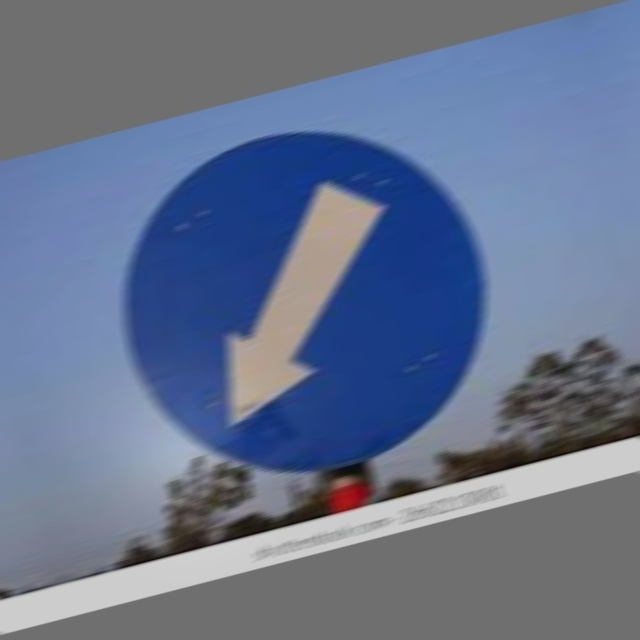Compulsory_Keep_Left: (91, 98, 508, 495)
